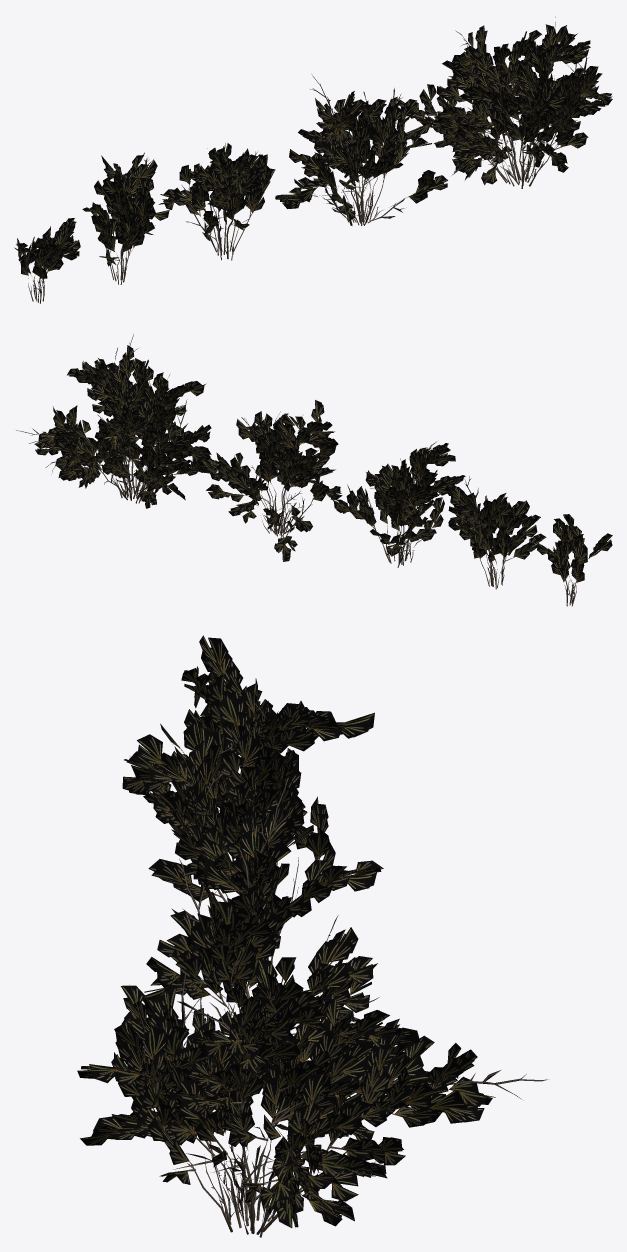
File: wild_rooibos_bush.glb
3 renders of one model, top to bottom at view 1: azimuth 30°, elevation 25°; view 2: azimuth 150°, elevation 25°; view 3: azimuth 270°, elevation 25°, orthographic. The views are drawn at different scales.
Visible parts, largest first — view 1: wild_rooibos_bush_a, wild_rooibos_bush_b, wild_rooibos_bush_c, wild_rooibos_bush_d, wild_rooibos_bush_e; view 2: wild_rooibos_bush_a, wild_rooibos_bush_b, wild_rooibos_bush_c, wild_rooibos_bush_d, wild_rooibos_bush_e; view 3: wild_rooibos_bush_a, wild_rooibos_bush_b, wild_rooibos_bush_c, wild_rooibos_bush_d, wild_rooibos_bush_e.
Boxes of the visible parts, <box> form: wild_rooibos_bush_a: <box>397,17,612,188</box>; wild_rooibos_bush_b: <box>275,75,447,225</box>; wild_rooibos_bush_c: <box>158,143,275,260</box>; wild_rooibos_bush_d: <box>82,152,169,284</box>; wild_rooibos_bush_e: <box>14,218,80,303</box>; wild_rooibos_bush_a: <box>16,334,218,508</box>; wild_rooibos_bush_b: <box>201,400,342,561</box>; wild_rooibos_bush_c: <box>332,441,465,567</box>; wild_rooibos_bush_d: <box>445,476,546,589</box>; wild_rooibos_bush_e: <box>537,514,612,606</box>; wild_rooibos_bush_a: <box>77,958,547,1237</box>; wild_rooibos_bush_b: <box>142,780,377,1093</box>; wild_rooibos_bush_c: <box>122,719,383,963</box>; wild_rooibos_bush_d: <box>160,678,374,860</box>; wild_rooibos_bush_e: <box>181,635,272,755</box>.
Bounding box in the file's own units: 2.27 × 0.541 × 0.8432.
Materials: 2 (2 with a texture image).
